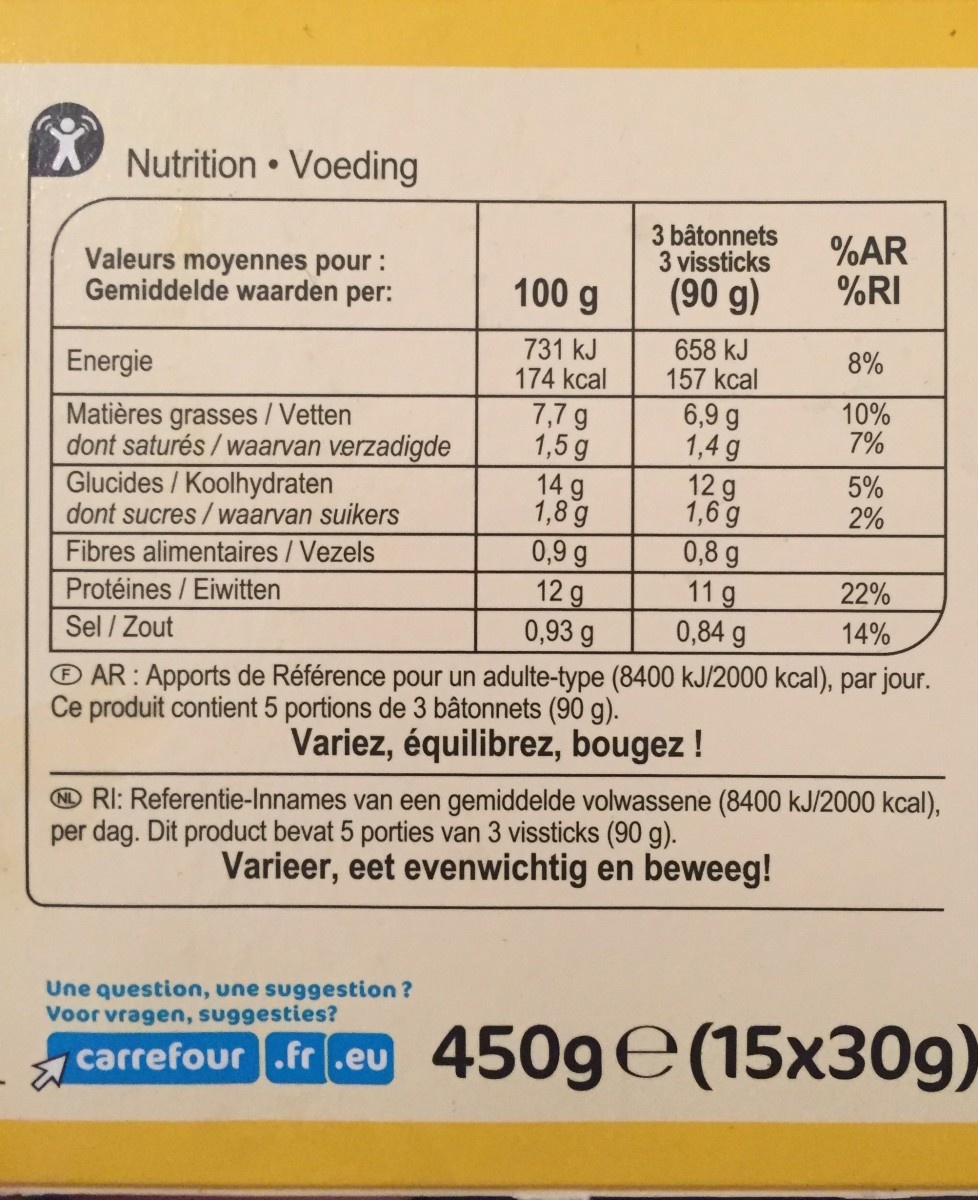table: (57, 197, 946, 652)
